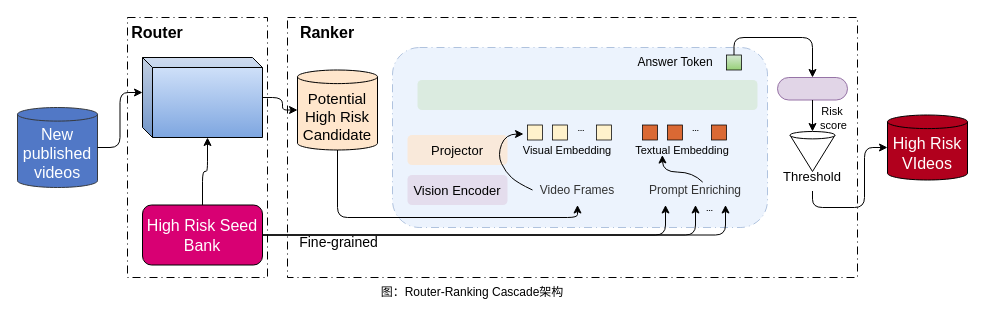
Some shapes in this 985 by 325 pixel diagram are drawn without their labels. The shapes that lost their labels are listed below. From the top down, each one's centre as x and y in pixels, then its label:
At (202,97): "Embedding based Retriver".
At (587,95): "Language Model".
At (812,88): "Softmax".
